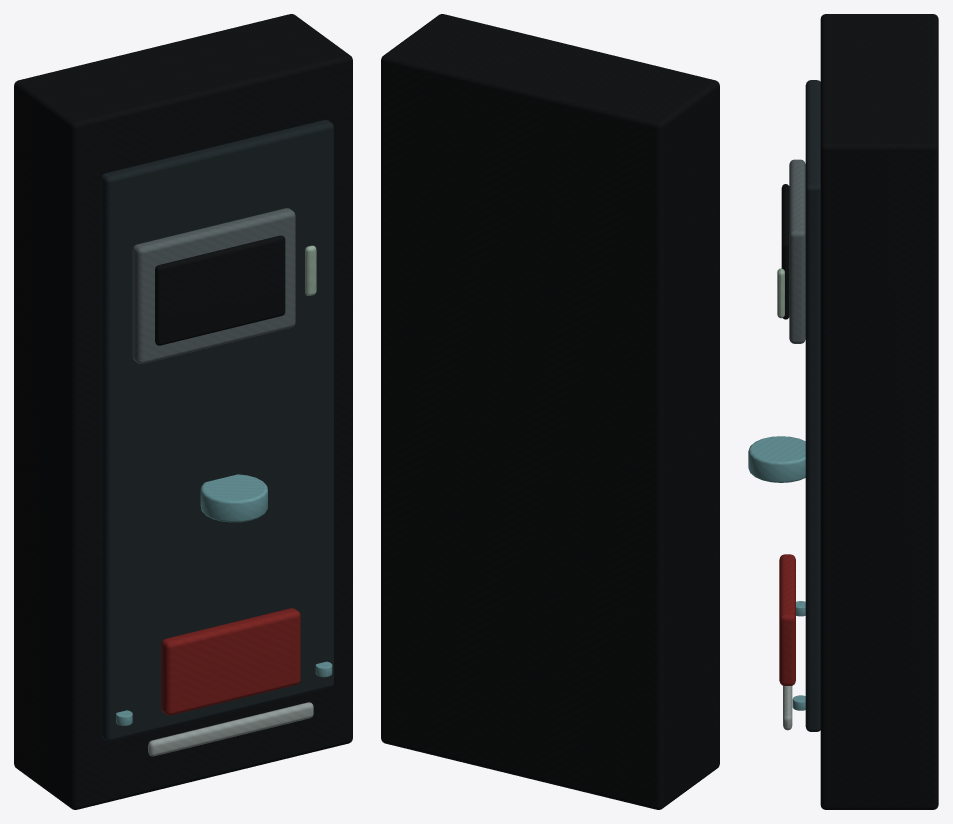
Rendered from AirlockControlPanel.fbx.
The picture shows the model from 3 angles, left to right: view 1: azimuth 30°, elevation 25°; view 2: azimuth 150°, elevation 25°; view 3: azimuth 270°, elevation 25°; orthographic projection. The views are drawn at different scales.
Parts seen in each view (by area): view 1: AirlockControlPanel_Mesh; view 2: AirlockControlPanel_Mesh; view 3: AirlockControlPanel_Mesh.
Part boxes in pixels (box(x1,y1,x2,y2)): AirlockControlPanel_Mesh: box(14, 14, 352, 809); AirlockControlPanel_Mesh: box(381, 14, 719, 809); AirlockControlPanel_Mesh: box(748, 14, 938, 809).
Size of the model in its own units: 48 by 112 by 29.
